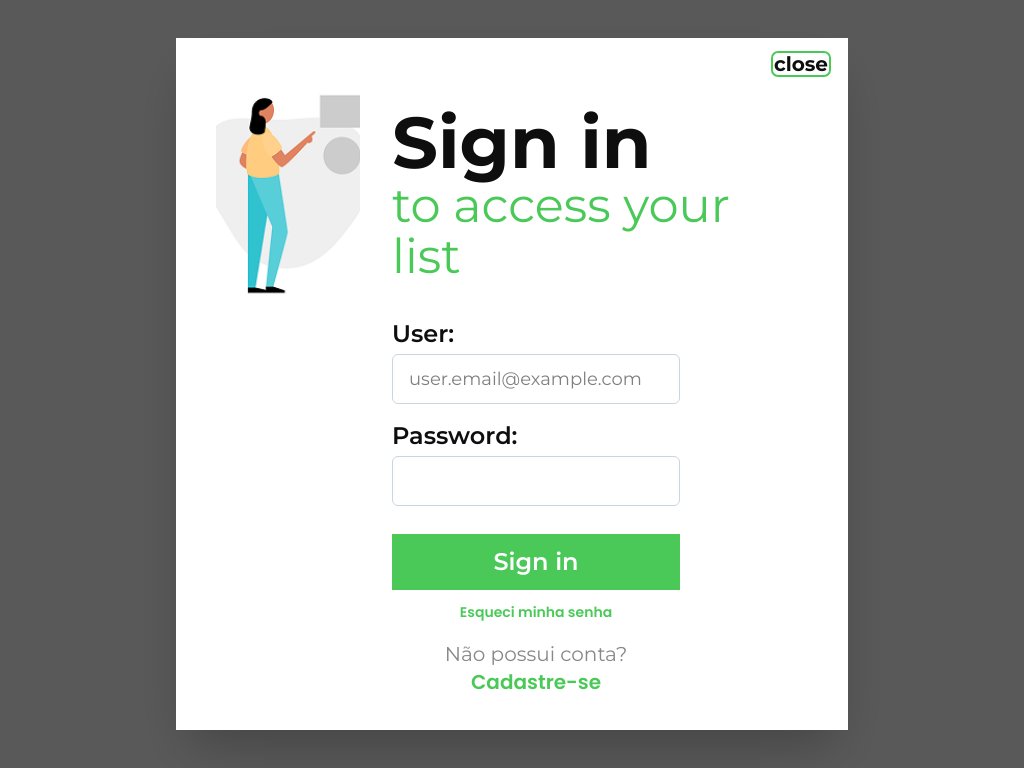
Scenario: AuthModal › switches to forgot-password mode and submits the recovery email
Step 1. Click the button "Esqueci minha senha" → (536, 612), box top-left (392, 602), bottom-right (680, 622)
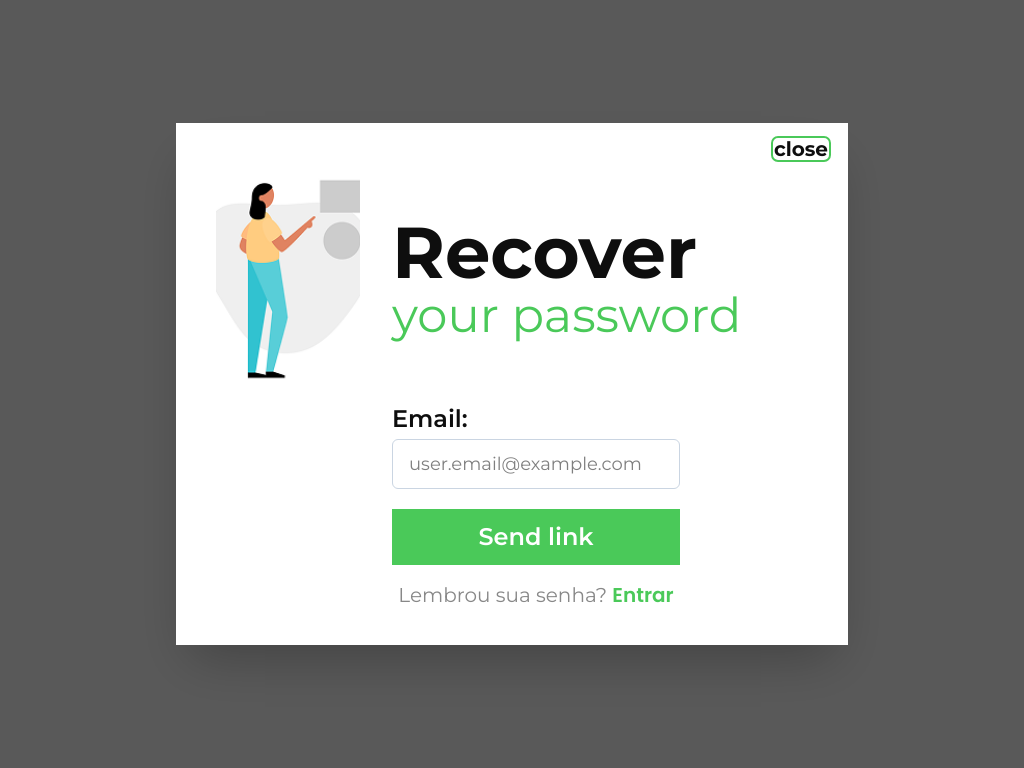
Step 2. Type "henrique@example.com" into the field labelled "Email:" → (536, 464), box top-left (392, 439), bottom-right (680, 489)
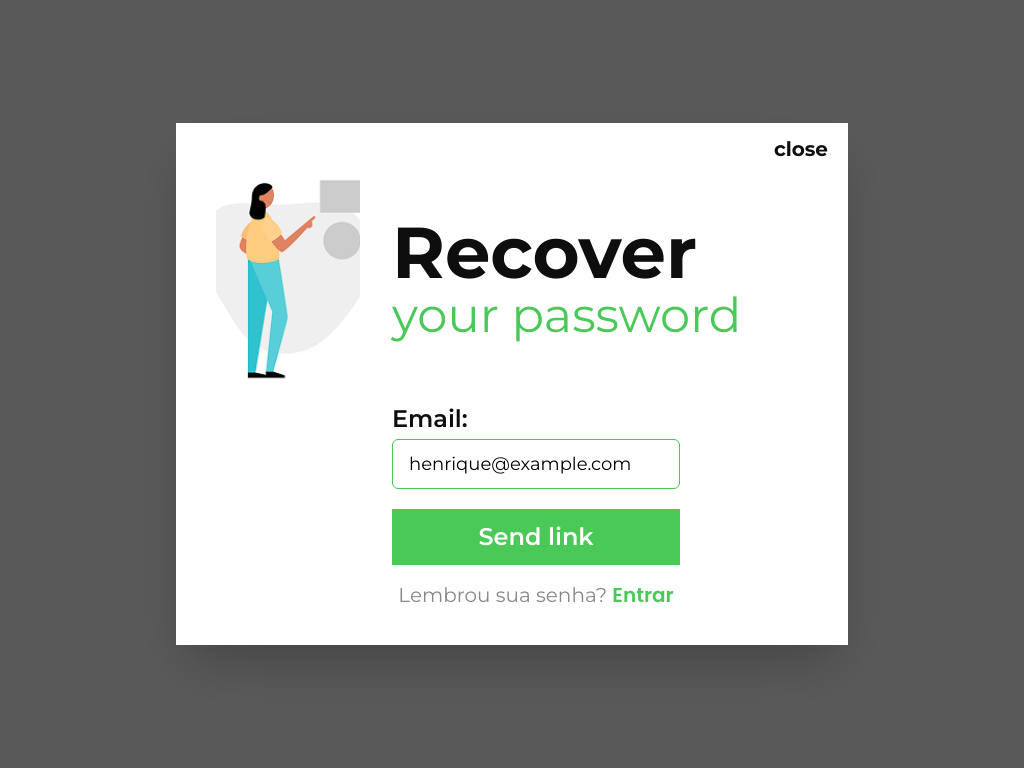
Step 3. Click the button "Send link" → (536, 537), box top-left (392, 509), bottom-right (680, 565)
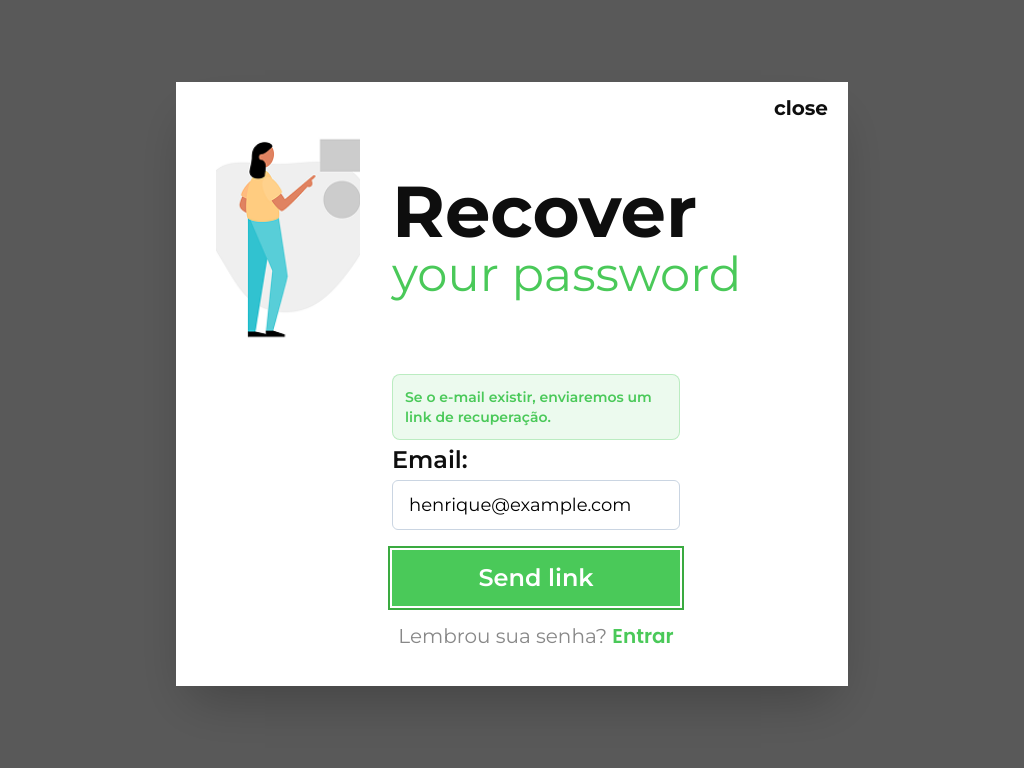
Now the text "Se o e-mail existir, enviaremos um link de recuperação." is shown, box top-left (392, 374), bottom-right (680, 440)
